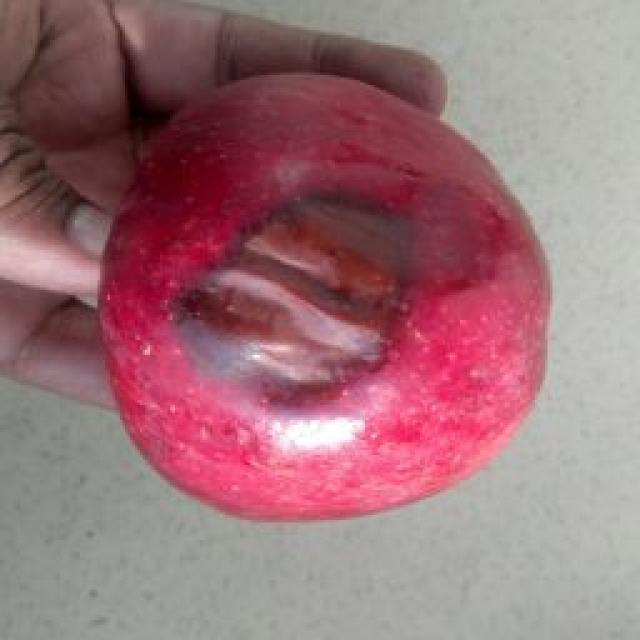Bad_Apple: (100, 75, 549, 518)
